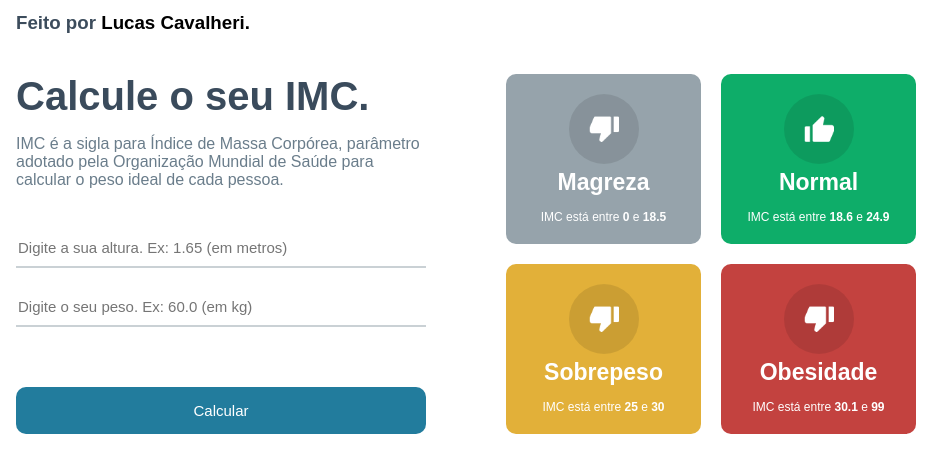
Testa o App › Testa se ao clicar no botão de calcular, os inputs e o botão ficam desabilitados
The width and height of the screenshot is (933, 451).
Step 1. Type "1.65" into the number field with test id "input-height" → [221, 249], box [16,229,426,268]
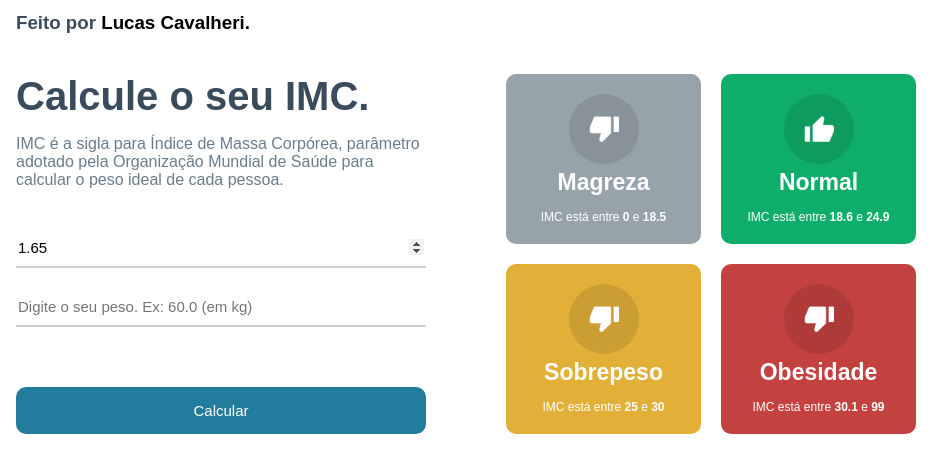
Step 2. Type "60.0" into the number field with test id "input-weight" → [221, 308], box [16,288,426,327]
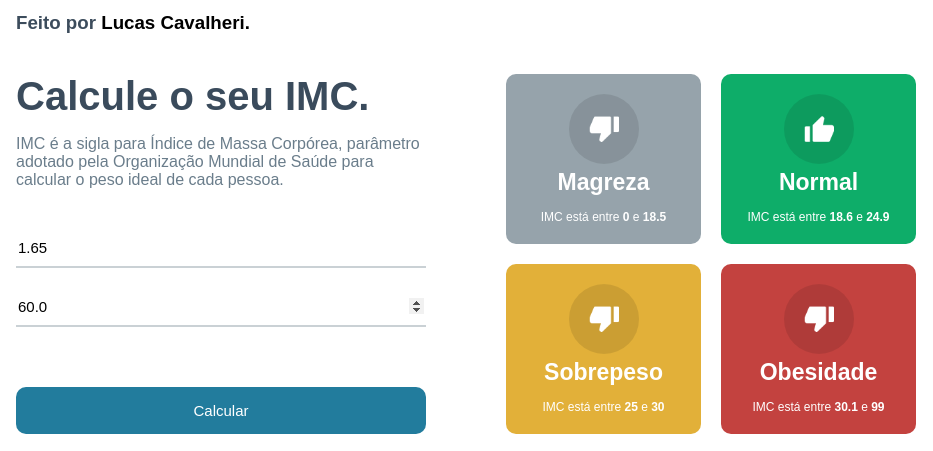
Step 3. Click the button with test id "button-calcular" → [221, 411], box [16,387,426,434]
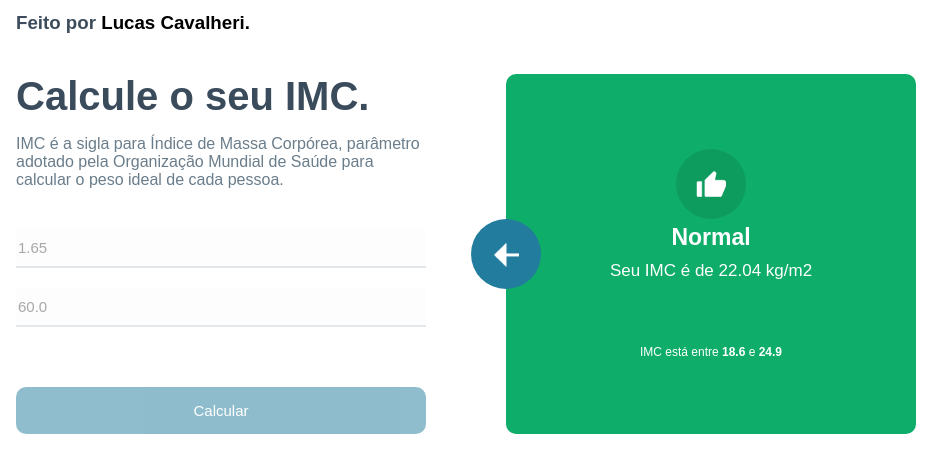
Result: the number field with test id "input-height" is disabled at [16,229,426,268]
Result: the number field with test id "input-weight" is disabled at [16,288,426,327]
Result: the button with test id "button-calcular" is disabled at [16,387,426,434]
